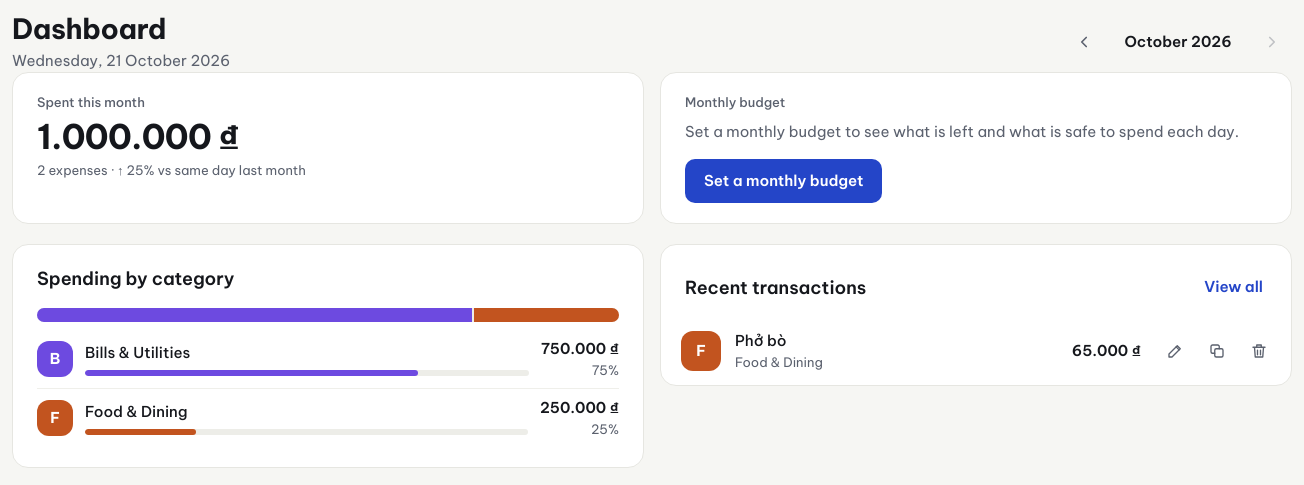
Test: DashboardPage › does not offer to add an expense in an empty past month
This screenshot has width=1304, height=485.
Expected: the heading "Spent this month" is shown, 37,94 -> 145,110
Click the button named "Previous month" at point(1084, 42), box 1064,22 -> 1104,62
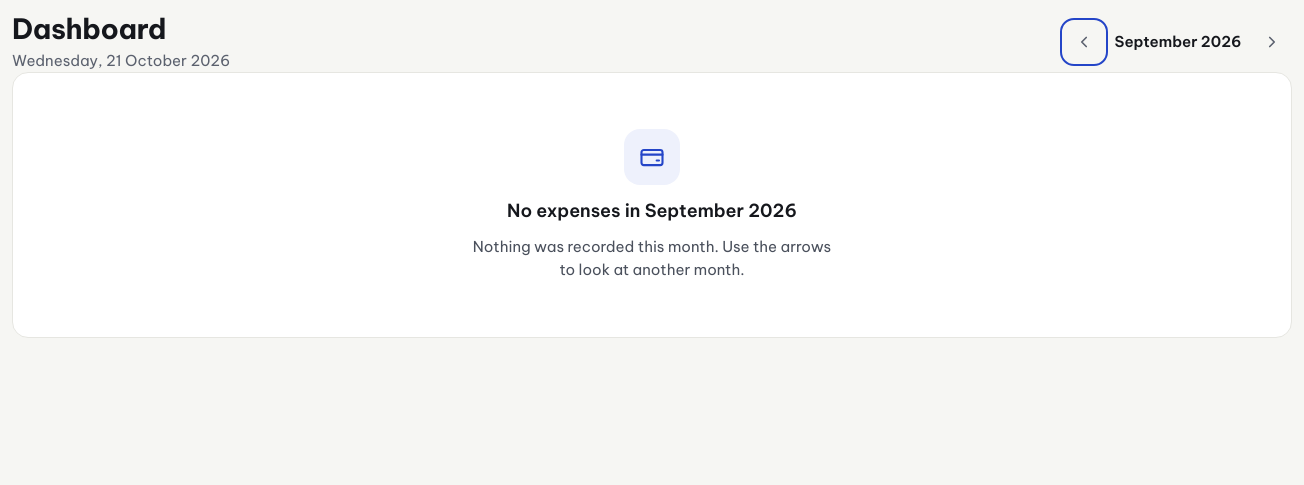
Expected: the heading "No expenses in September 2026" is shown, 507,197 -> 797,224
